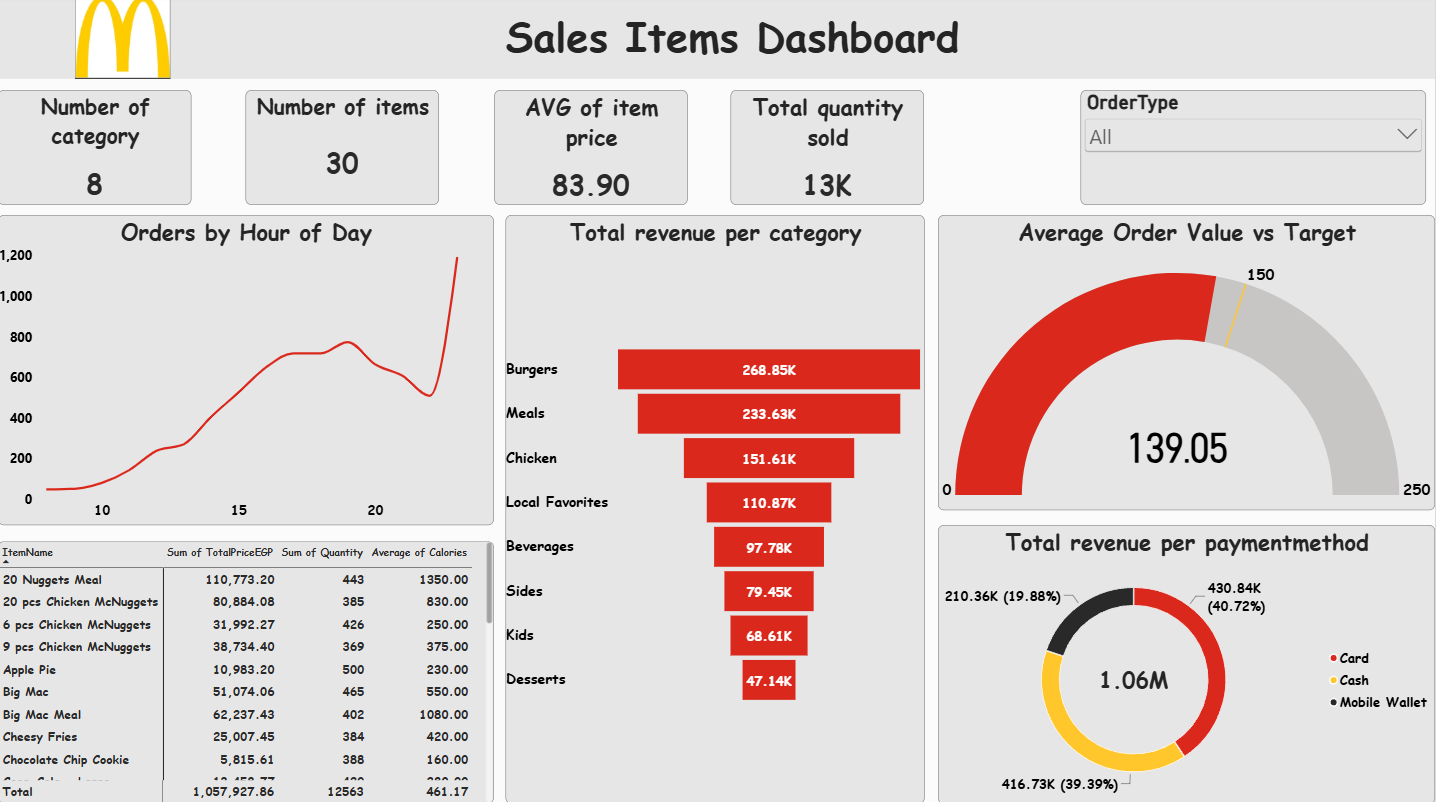

What the dashboard file says about the page in this screenshot:
{"tool":"powerbi","page":{"name":"sales","canvas":[1920,1080],"ordinal":1},"visuals":[{"type":"donutChart","title":"Total revenue per paymentmethod ","fields":{"Category":["Orders.PaymentMethod"],"Y":["Sum(Orders.TotalPriceEGP)"]},"box":[1255.9,707.6,664.1,372.8],"z":0},{"type":"cardVisual","title":"Number of items","fields":{"Data":["Count(Menu.ItemID)"]},"box":[331.2,126.7,258.8,153.8],"z":1000},{"type":"pivotTable","fields":{"Rows":["Menu.ItemName"],"Values":["Sum(Orders.TotalPriceEGP)","Sum(Orders.Quantity)","Avg(Menu.Calories)"]},"box":[0,730,662,350],"z":2000},{"type":"cardVisual","title":"Total quantity sold","fields":{"Data":["Sum(Orders.Quantity)"]},"box":[979,126.7,258.8,153.8],"z":3000},{"type":"cardVisual","title":"Number of category ","fields":{"Data":["Count(Menu.Category)"]},"box":[0,126.7,258.8,153.8],"z":4000},{"type":"cardVisual","title":"AVG of item price","fields":{"Data":["Avg(Menu.PriceEGP)"]},"box":[662.3,126.7,258.8,153.8],"z":5000},{"type":"lineChart","title":"Orders by Hour of Day","fields":{"Category":["Orders.OrderTime"],"Y":["CountNonNull(Orders.OrderID)"]},"box":[0,294,662,414],"z":6000},{"type":"gauge","title":"Average Order Value vs Target","fields":{"MaxValue":["Branches.Gauge Max"],"MinValue":["Branches.Gauge Min"],"TargetValue":["Branches.AOV Target"],"Y":["Branches.Average Order Value"]},"box":[1256,294,664,394],"z":7000},{"type":"slicer","fields":{"Values":["Orders.OrderType"]},"box":[1445.9,126.7,461.5,153.8],"z":8000},{"type":"funnel","title":"Total revenue per category","fields":{"Category":["Menu.Category"],"Y":["Sum(Orders.TotalPriceEGP)"]},"box":[678,294,560,786],"z":9000},{"type":"shape","box":[0,0,1920.1,112.2],"z":10000},{"type":"textbox","box":[41.6,18.1,1878.4,94.1],"z":11000},{"type":"image","box":[16.7,0,300.6,111.9],"z":11001}]}

Visuals, with their boxes in screenshot pixels (x1, y1, x2, y2), scaled from the page's 1920x1080 canvas onto the 1436x802 screenshot:
"Total revenue per paymentmethod " donutChart: region(939, 525, 1435, 801)
"Number of items" cardVisual: region(248, 94, 441, 208)
pivotTable - Menu.ItemName x Sum(Orders.TotalPriceEGP): region(0, 542, 495, 801)
"Total quantity sold" cardVisual: region(732, 94, 926, 208)
"Number of category " cardVisual: region(0, 94, 194, 208)
"AVG of item price" cardVisual: region(495, 94, 689, 208)
"Orders by Hour of Day" lineChart: region(0, 218, 495, 526)
"Average Order Value vs Target" gauge: region(939, 218, 1435, 511)
slicer - Orders.OrderType: region(1081, 94, 1427, 208)
"Total revenue per category" funnel: region(507, 218, 926, 801)
shape: region(0, 0, 1435, 83)
textbox: region(31, 13, 1435, 83)
image: region(12, 0, 237, 83)
